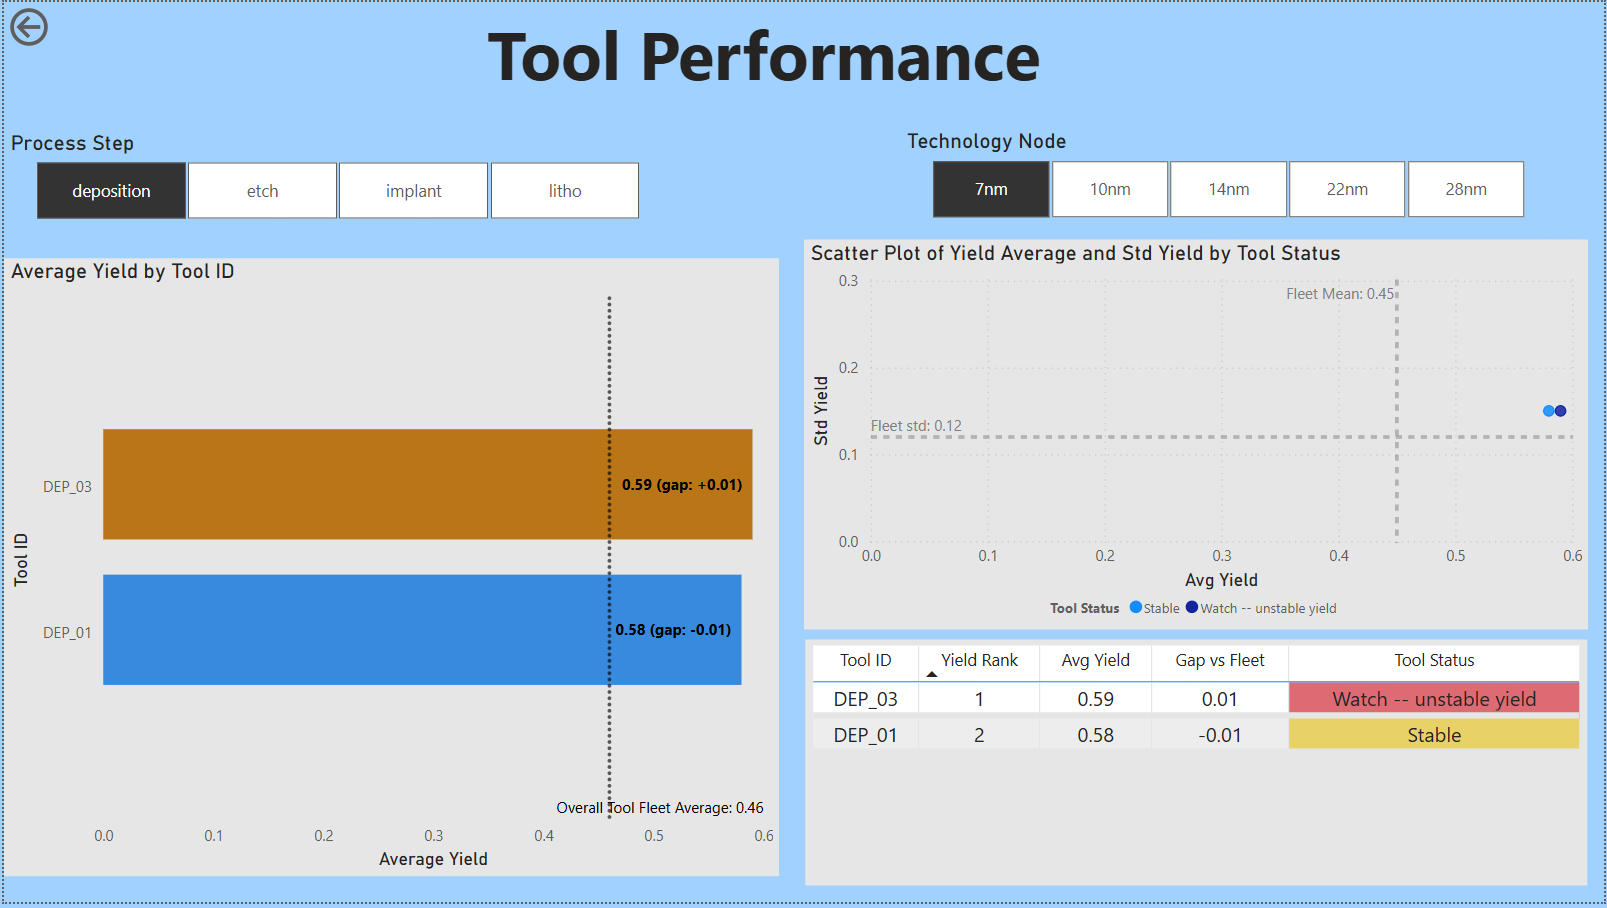

Layout of this report page (visuals, bound fields, positions):
{"tool":"powerbi","page":{"name":"Tool","canvas":[1280,720],"ordinal":1},"visuals":[{"type":"slicer","title":"Process Step","fields":{"Values":["tool_performance_combined.process_step"]},"box":[0,102.4,531.6,77.7],"z":0},{"type":"actionButton","box":[0,0,100,40],"z":1000},{"type":"textbox","box":[341.9,0,531.4,88.4],"z":2000},{"type":"slicer","title":"Technology Node","fields":{"Values":["tool_performance_combined.technology_node"]},"box":[717.4,101.2,522.1,77.9],"z":3000},{"type":"barChart","title":"Average Yield by Tool ID","fields":{"Category":["tool_performance_combined.tool_id"],"Y":["Avg(tool_performance_combined.avg_yield)"]},"box":[0,204.7,620.4,494.6],"z":4000},{"type":"scatterChart","title":"Scatter Plot of Yield Average and Std Yield by Tool Status","fields":{"X":["tool_performance_combined.avg_yield"],"Y":["tool_performance_combined.std_yield"],"Series":["tool_performance_combined.tool_status"]},"box":[640.1,189.9,626.6,312],"z":5000},{"type":"tableEx","fields":{"Values":["tool_performance_combined.tool_id","tool_performance_combined.yield_rank","tool_performance_combined.avg_yield","tool_performance_combined.gap_vs_fleet","tool_performance_combined.tool_status"]},"box":[640.7,510.5,625.6,196.5],"z":6000}]}

Visuals, with their boxes in screenshot pixels (x1, y1, x2, y2), scaled from the page's 1280x720 canvas onto the 1607x908 screenshot:
"Process Step" slicer: BBox(0, 129, 667, 227)
actionButton: BBox(0, 0, 126, 50)
textbox: BBox(429, 0, 1096, 111)
"Technology Node" slicer: BBox(901, 128, 1556, 226)
"Average Yield by Tool ID" barChart: BBox(0, 258, 779, 882)
"Scatter Plot of Yield Average and Std Yield by Tool Status" scatterChart: BBox(804, 239, 1590, 633)
tableEx - tool_performance_combined.tool_id x tool_performance_combined.yield_rank: BBox(804, 644, 1590, 892)
